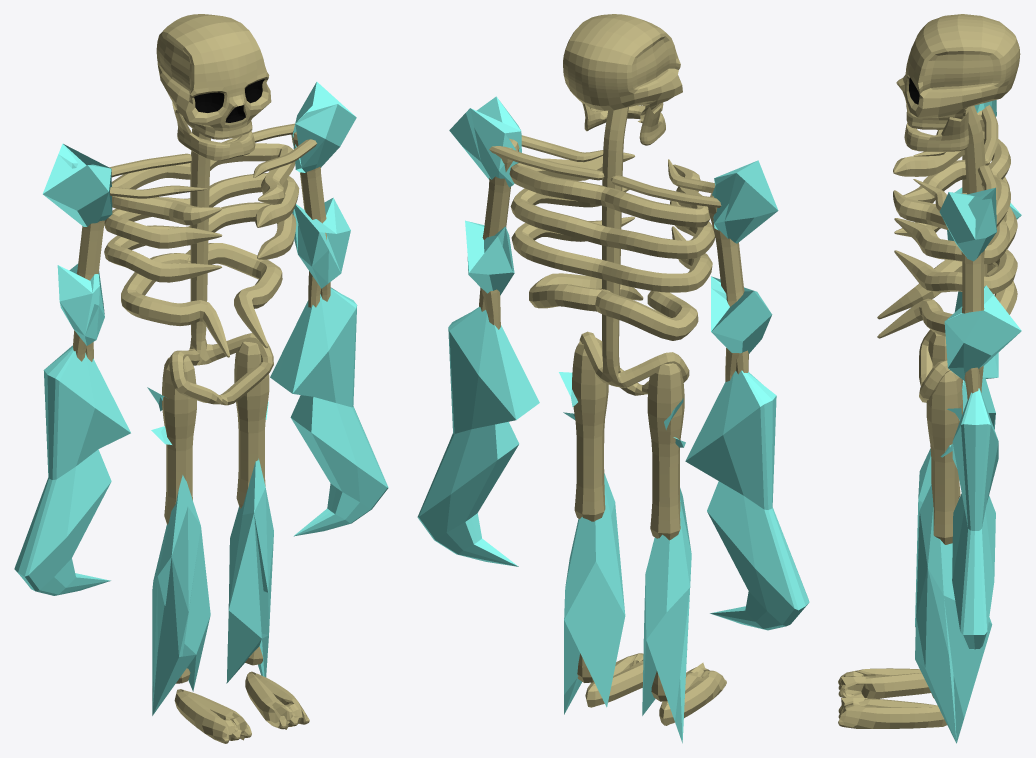
The model's file is skeleton.fbx.
3 renders of one model, left to right at view 1: azimuth 30°, elevation 25°; view 2: azimuth 150°, elevation 25°; view 3: azimuth 270°, elevation 25°, orthographic. The views are drawn at different scales.
Parts seen in each view (by area): view 1: Plane.002, Cube.005, Cube.008, Cube.002, Cube.007, Cube.006; view 2: Plane.002, Cube.005, Cube.008, Cube.002, Cube.007, Cube.006; view 3: Plane.002, Cube.002, Cube.005, Cube.008, Cube.006, Cube.007.
Boxes of the visible parts, box(x1,y1,x2,y2) form: Plane.002: box(73, 123, 330, 743); Cube.005: box(14, 287, 388, 595); Cube.008: box(152, 458, 273, 715); Cube.002: box(156, 14, 271, 160); Cube.007: box(43, 81, 356, 226); Cube.006: box(57, 197, 350, 345); Plane.002: box(479, 107, 748, 725); Cube.005: box(417, 306, 809, 630); Cube.008: box(564, 473, 691, 743); Cube.002: box(563, 14, 682, 145); Cube.007: box(449, 96, 778, 243); Cube.006: box(465, 220, 772, 353); Plane.002: box(838, 105, 1017, 728); Cube.002: box(896, 14, 1020, 151); Cube.005: box(952, 291, 998, 649); Cube.008: box(915, 448, 992, 743); Cube.006: box(944, 187, 1021, 381); Cube.007: box(939, 100, 996, 261).
Size of the model in its own units: 799 by 1408 by 338.
